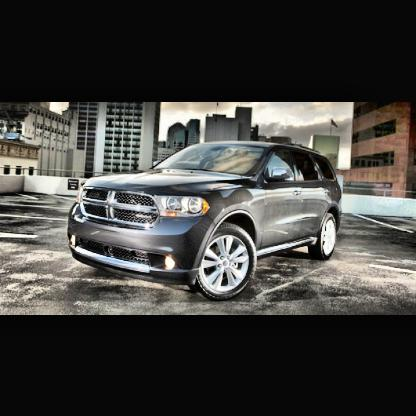Dodge Durango SUV 2012: (69, 142, 346, 301)
